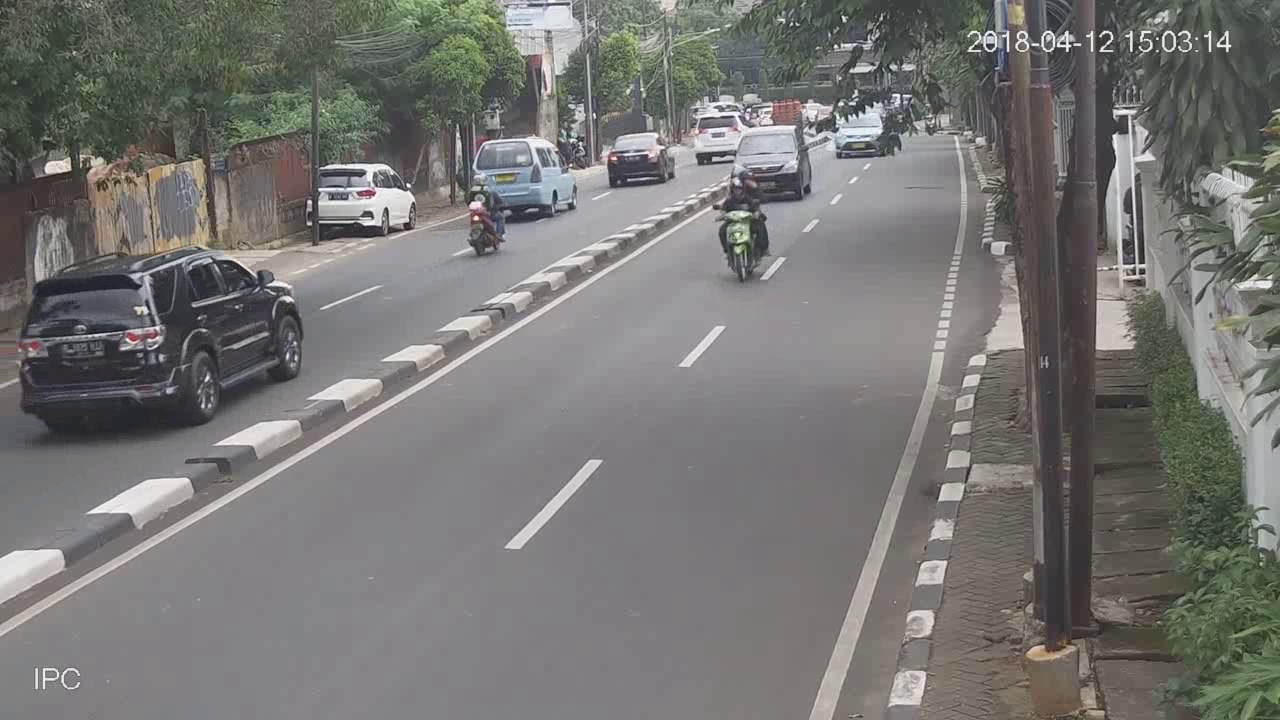car: (21, 245, 302, 434), (304, 164, 416, 238), (488, 134, 582, 215), (734, 126, 809, 194), (608, 129, 676, 185), (694, 111, 744, 165)
motorcycle: (712, 179, 772, 286), (467, 168, 509, 255)
